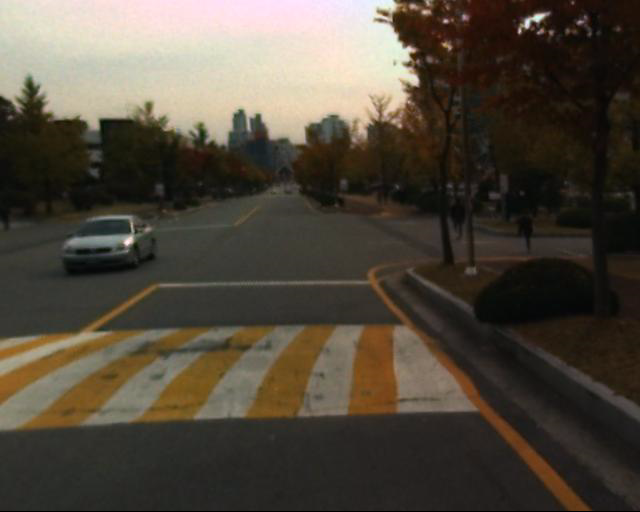person: (515, 206, 538, 261), (450, 193, 472, 242)
